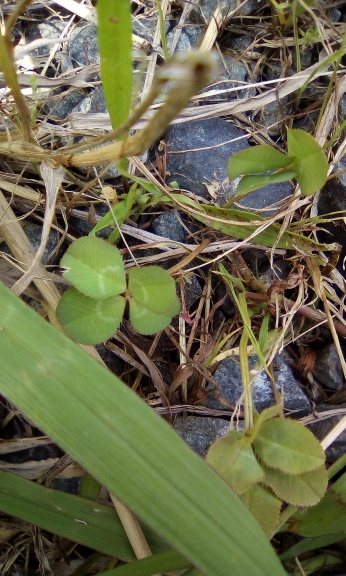4leaf: (55, 234, 181, 347)
